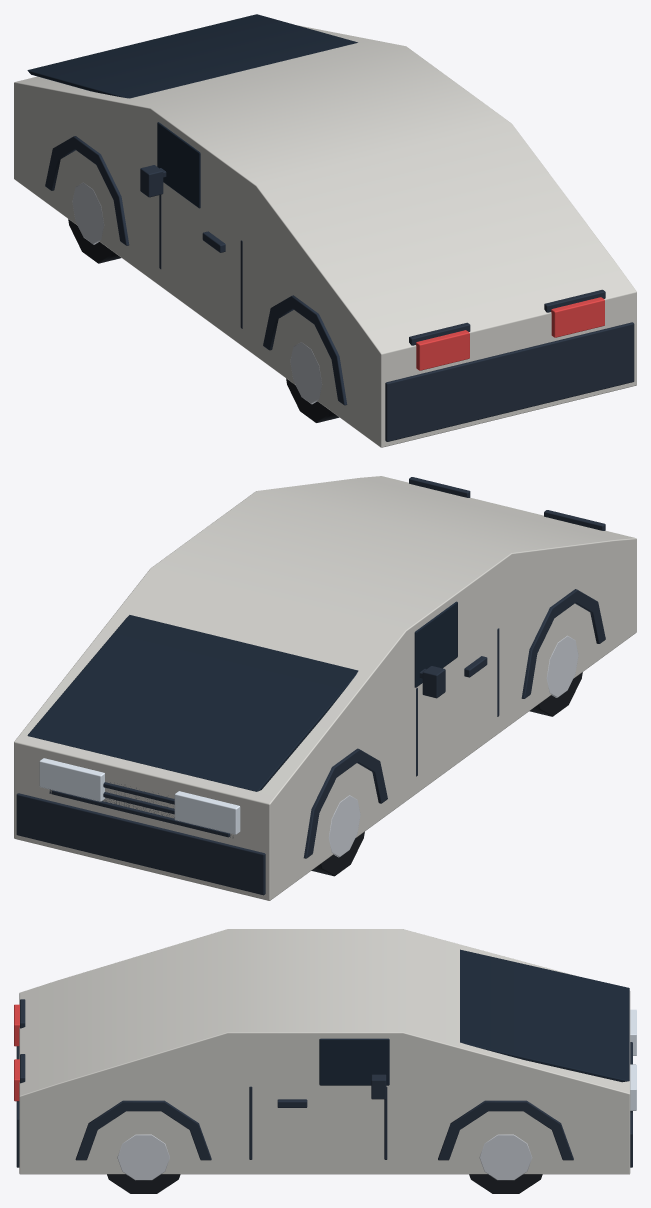
File: veh_car_coupe_01.glb
3 views of the same model, one above another, from view 1: azimuth 30°, elevation 25°; view 2: azimuth 150°, elevation 25°; view 3: azimuth 270°, elevation 25° (orthographic). The views are drawn at different scales.
Parts seen in each view (by area): view 1: VEH_CAR_COUPE_01_ROOT; view 2: VEH_CAR_COUPE_01_ROOT; view 3: VEH_CAR_COUPE_01_ROOT.
Boxes of the visible parts, x1,y1,x2,y2 form: VEH_CAR_COUPE_01_ROOT: (14, 14, 636, 447); VEH_CAR_COUPE_01_ROOT: (14, 476, 636, 900); VEH_CAR_COUPE_01_ROOT: (14, 929, 636, 1193).
Size of what is drawn, in the model's own units: 2.11 by 1.32 by 4.61.
